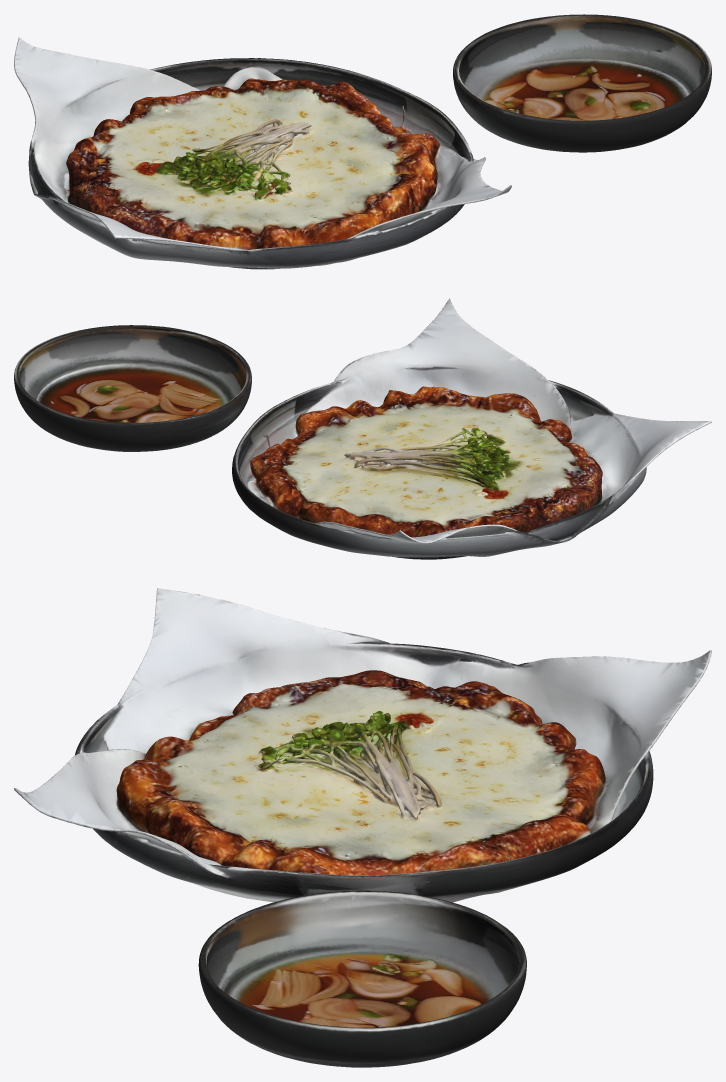
The model's file is cheesyquiche.glb.
3 renders of one model, top to bottom at view 1: azimuth 30°, elevation 25°; view 2: azimuth 150°, elevation 25°; view 3: azimuth 270°, elevation 25°, orthographic. The views are drawn at different scales.
Bounding box in the file's own units: 0.5695 × 0.0898 × 0.4084.
1 material, 1 textured.
